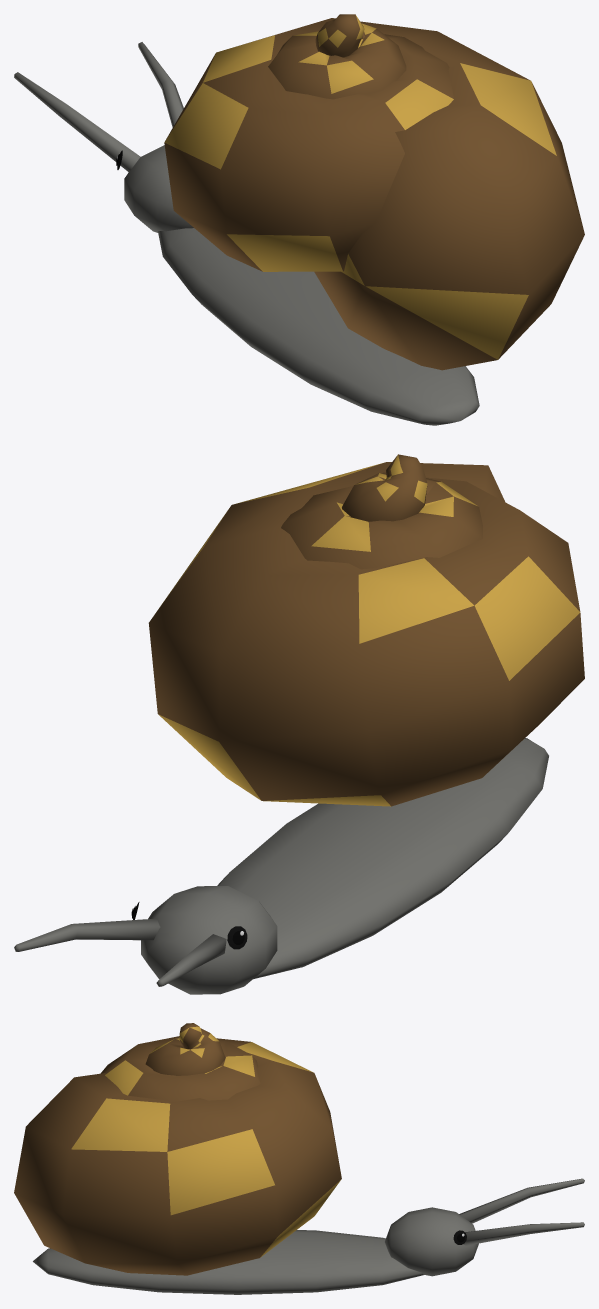
Rendered from pest_snail.glb.
3 views of the same model, one above another, from view 1: azimuth 30°, elevation 25°; view 2: azimuth 150°, elevation 25°; view 3: azimuth 270°, elevation 25° (orthographic). The views are drawn at different scales.
Parts seen in each view (by area): view 1: pest_snail; view 2: pest_snail; view 3: pest_snail.
Part boxes in pixels (bbox=[...]): pest_snail: bbox=[14, 14, 584, 425]; pest_snail: bbox=[14, 454, 584, 994]; pest_snail: bbox=[14, 1023, 584, 1294].
Size of the model in its own units: 1.31 by 1.3 by 2.64.
